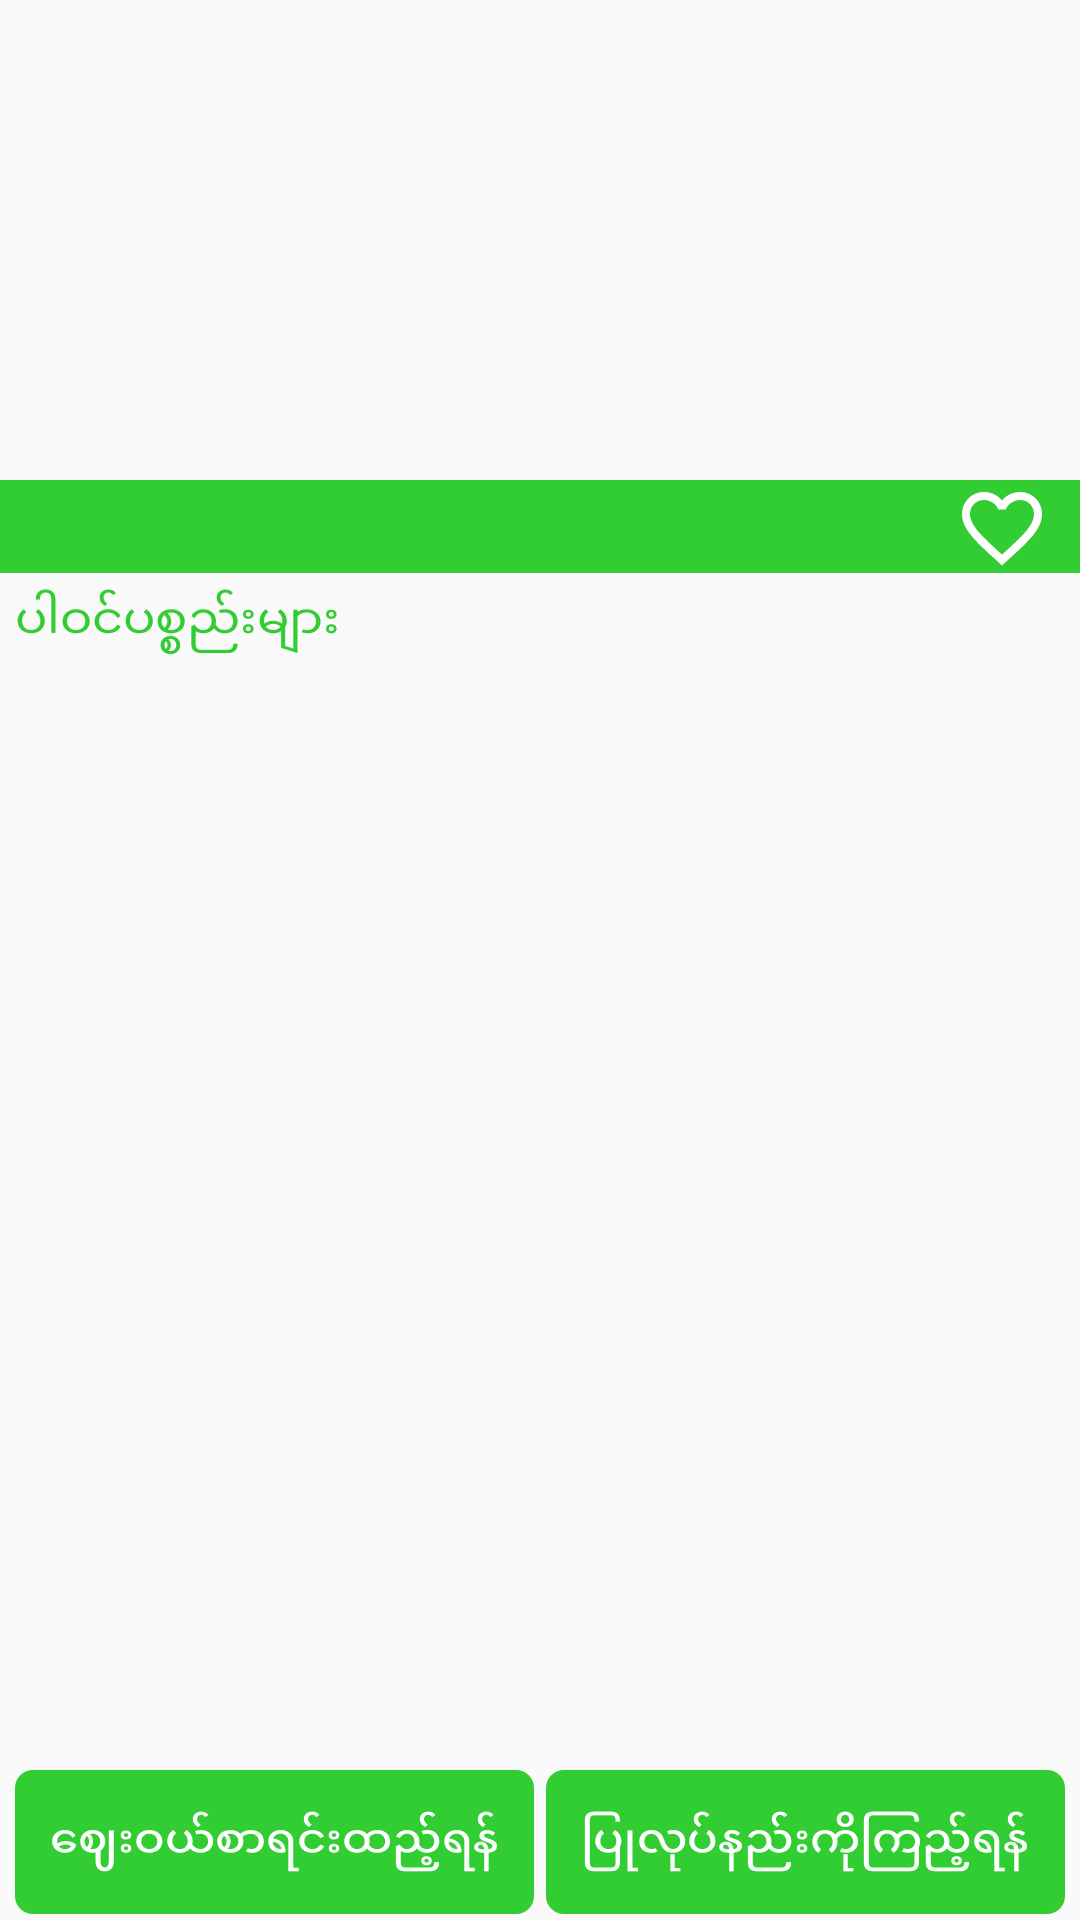

Icons on this 1080 × 1920 Android screen, each with the point to tap as point (x, y):
favorite border: point (1002, 528)
